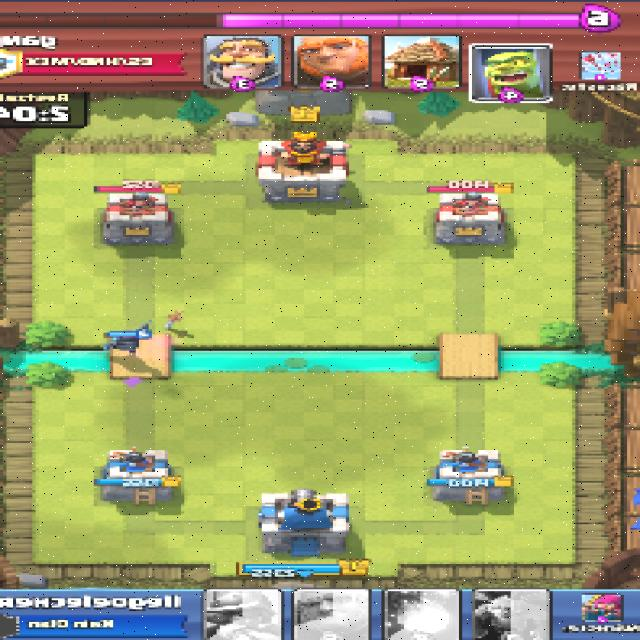Player-MiniPEKKA: (101, 325, 150, 352)
